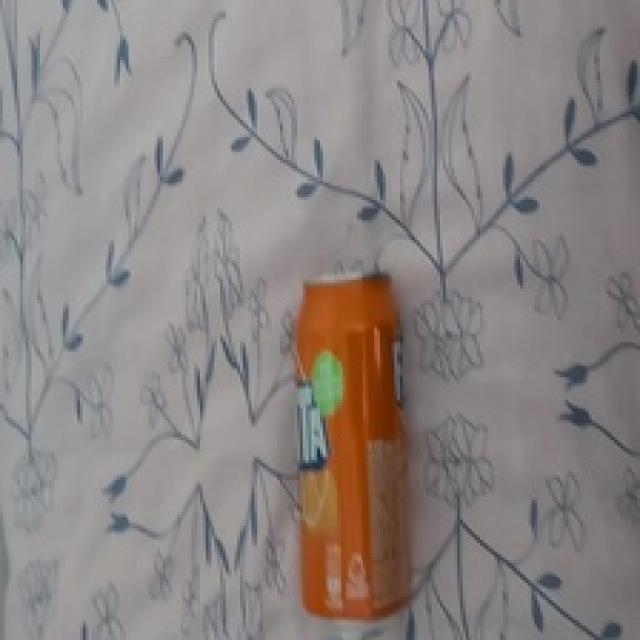recyclable: (289, 268, 413, 636)
